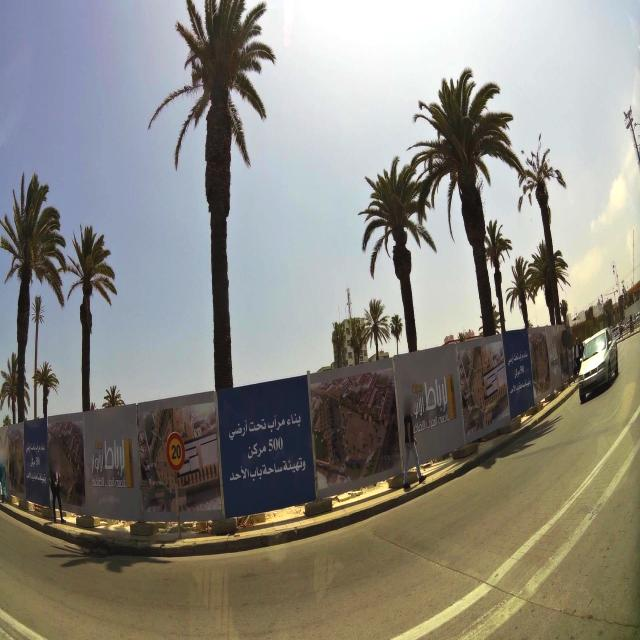car: (578, 327, 618, 403)
